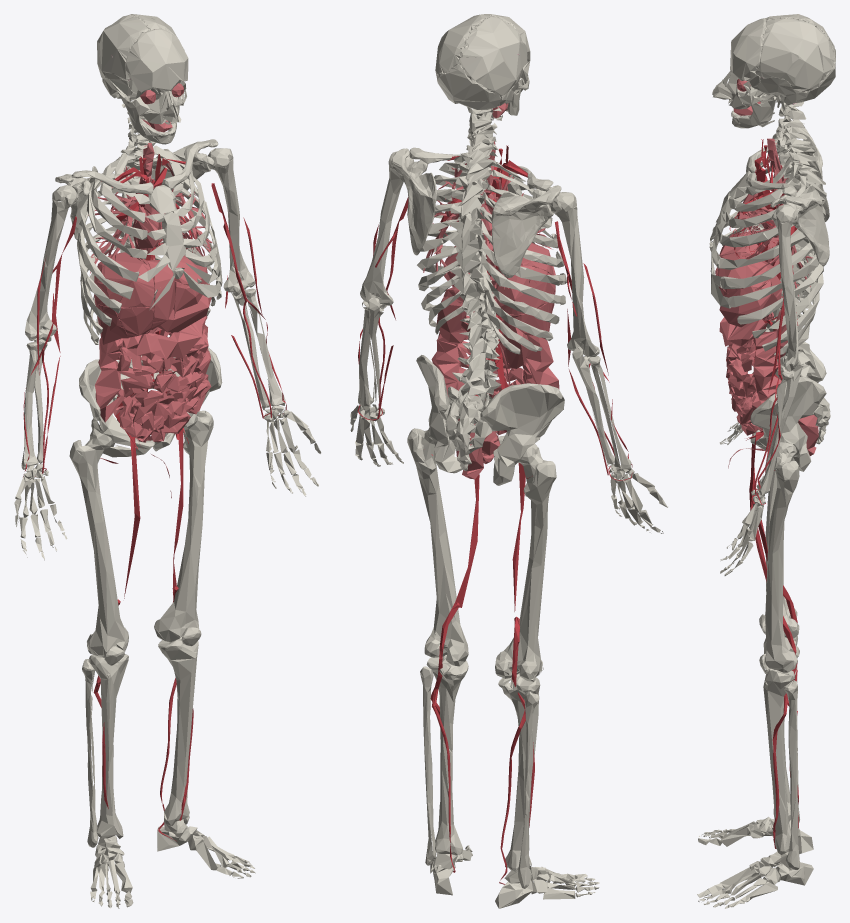
The model's file is anatomy.glb.
3 views of the same model, side by side, from view 1: azimuth 30°, elevation 25°; view 2: azimuth 150°, elevation 25°; view 3: azimuth 270°, elevation 25° (orthographic). The views are drawn at different scales.
Parts seen in each view (by area): view 1: g003, g055, g045, g039, g022, g066, g035, g059, g018, g056, g008, g027 (+25 smaller); view 2: g008, g003, g039, g022, g018, g035, g038, g065, g055, g027, g056, g070 (+19 smaller); view 3: g003, g056, g018, g022, g008, g012, g066, g010, g021, g045, g013, g029 (+23 smaller).
Part boxes in pixels (x1,y1,x2,y2): g003: [97, 14, 188, 124]; g055: [77, 153, 175, 326]; g045: [95, 316, 208, 422]; g039: [69, 425, 128, 657]; g022: [154, 410, 213, 641]; g066: [113, 315, 211, 436]; g035: [82, 654, 128, 847]; g059: [94, 252, 207, 329]; g018: [158, 636, 198, 825]; g056: [151, 145, 222, 306]; g008: [79, 347, 222, 457]; g027: [25, 185, 78, 341]; g008: [416, 355, 564, 485]; g003: [435, 14, 530, 109]; g039: [495, 444, 556, 681]; g022: [407, 428, 468, 666]; g018: [420, 655, 468, 865]; g035: [498, 673, 540, 888]; g038: [492, 185, 561, 277]; g065: [446, 164, 492, 308]; g055: [477, 162, 566, 305]; g027: [549, 192, 599, 357]; g056: [417, 155, 478, 291]; g070: [452, 309, 501, 399]; g003: [712, 14, 835, 230]; g056: [710, 157, 823, 338]; g018: [763, 669, 799, 869]; g022: [765, 442, 799, 672]; g008: [750, 349, 830, 471]; g012: [697, 851, 813, 908]; g066: [726, 331, 781, 430]; g010: [771, 204, 798, 371]; g021: [770, 184, 829, 266]; g045: [719, 317, 767, 377]; g013: [756, 359, 802, 496]; g029: [698, 817, 813, 853].
Bounding box in the file's own units: 0.6472 × 1.71 × 0.2524.
